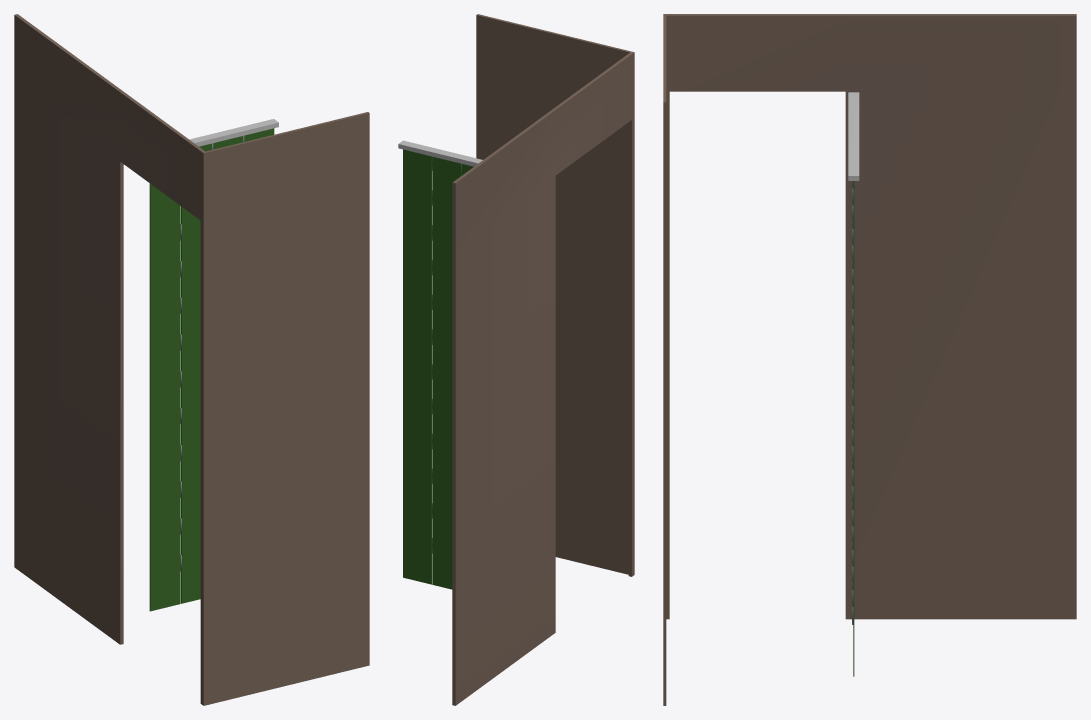
Rendered from ChaningRoom.fbx.
3 views of the same model, side by side, from view 1: azimuth 30°, elevation 25°; view 2: azimuth 150°, elevation 25°; view 3: azimuth 270°, elevation 25° (orthographic). The views are drawn at different scales.
Visible parts, largest first — view 1: ChaningRoom; view 2: ChaningRoom; view 3: ChaningRoom.
Part boxes in pixels (x1=…): ChaningRoom: x1=14, y1=14, x2=369, y2=705; ChaningRoom: x1=398, y1=14, x2=634, y2=705; ChaningRoom: x1=663, y1=14, x2=1076, y2=705.
Bounding box in the file's own units: 75.45 × 240 × 149.
